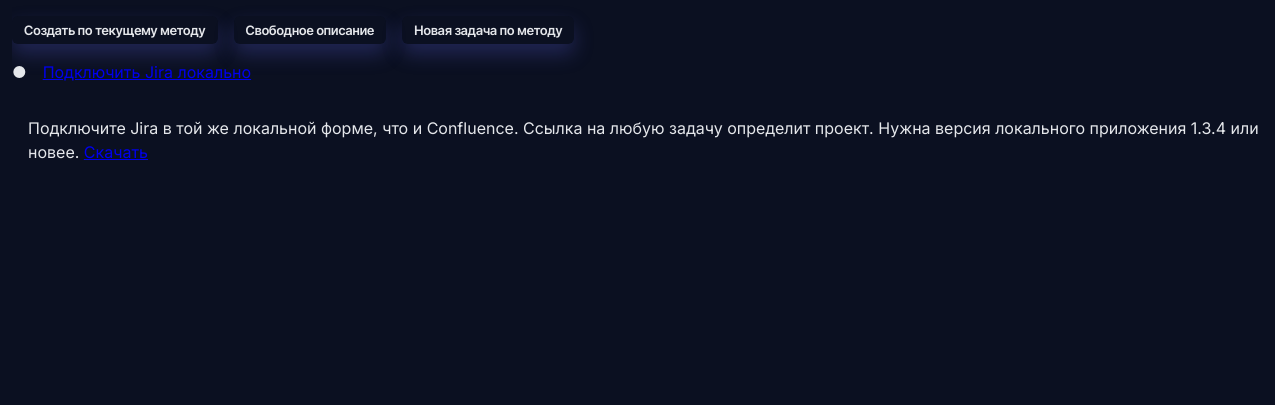
Scenario: Jira scenario isolation › does not permit starting another task when the previous outcome is unknown
Click the button "Свободное описание".
click(310, 30)  # box [234,16,386,44]
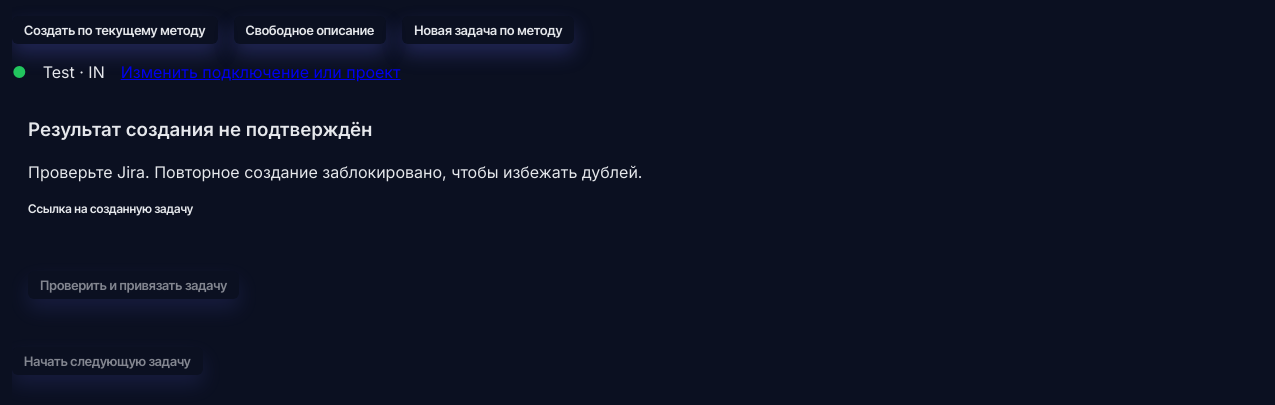
Expected: the heading "Результат создания не подтверждён" is shown, [28,118,372,141]
Expected: the button "Начать следующую задачу" is disabled, [12,347,203,375]
